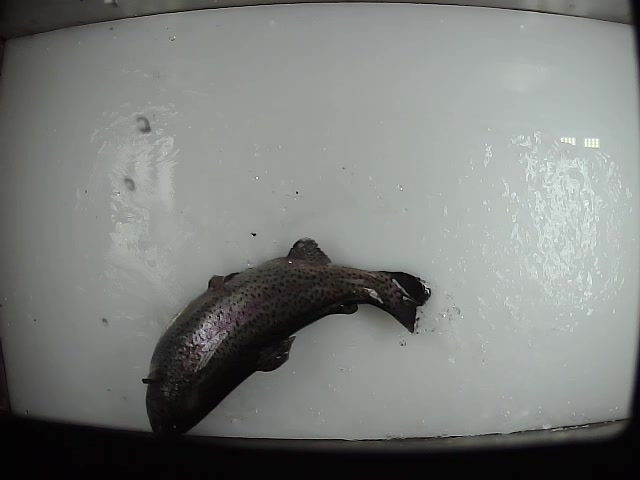fish: (138, 236, 433, 440)
